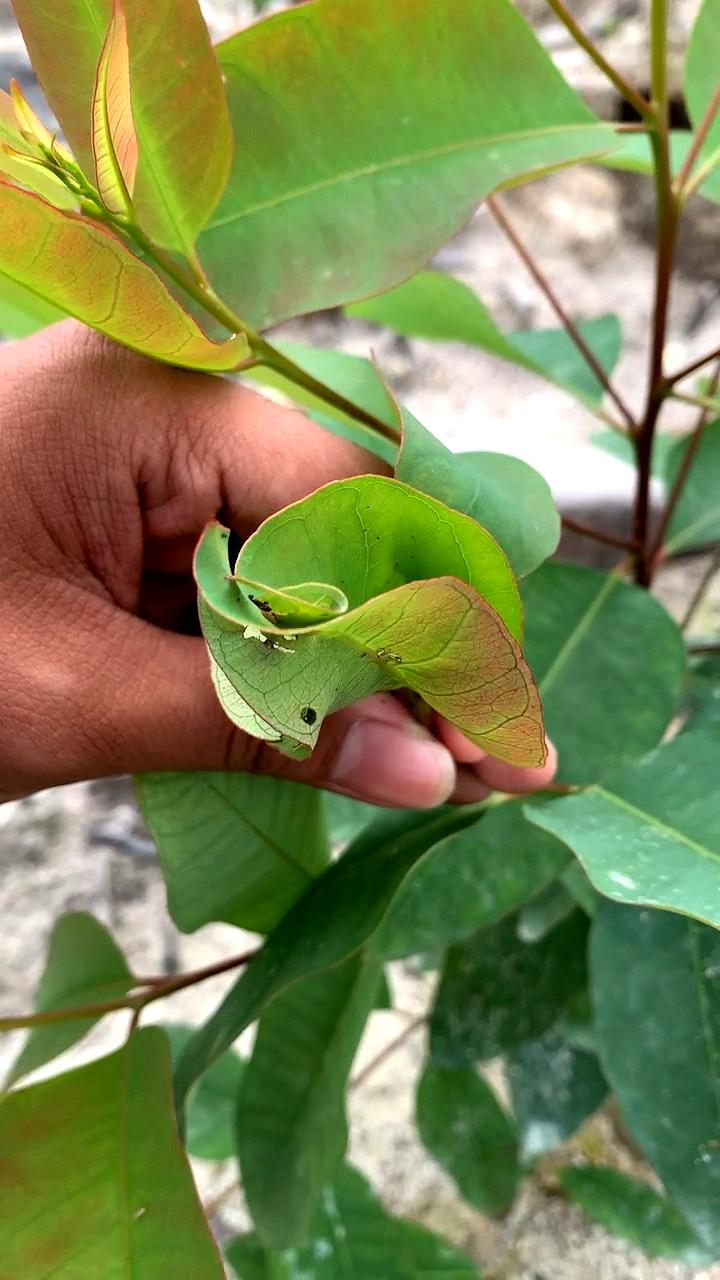Leaf Roller - Leaf: (187, 440, 563, 824)
